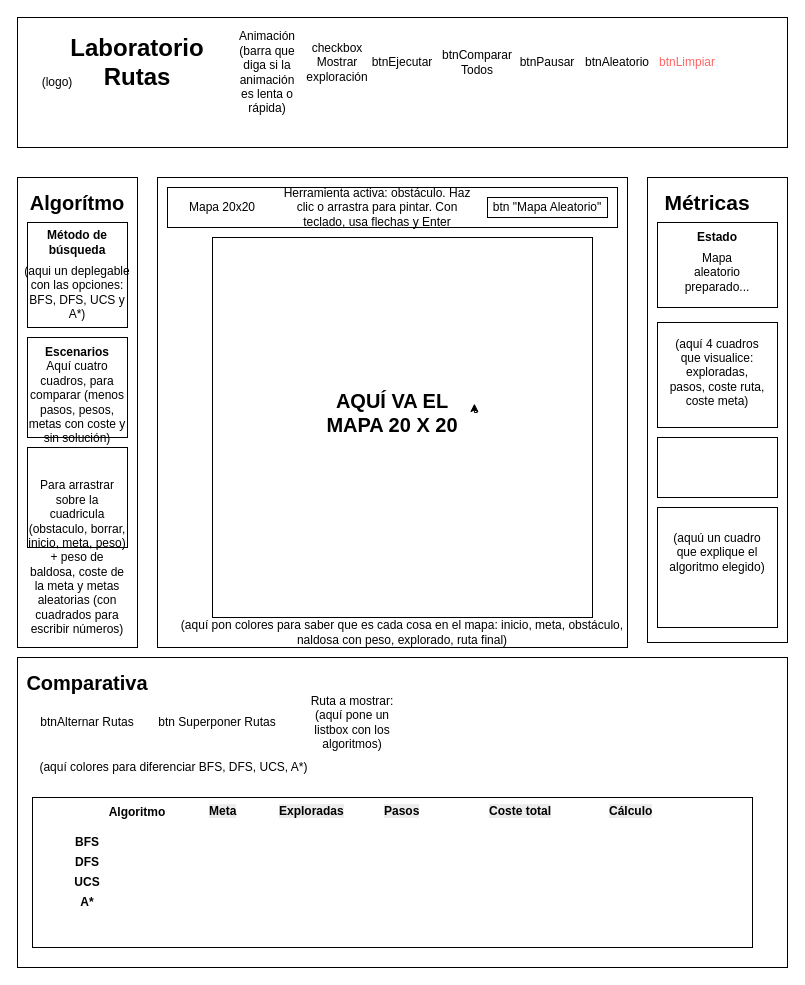
Image size: 805x985. Some labels were removed from this diagram. Here are the shapes that lost their labels. From the top down, the centre of each, then its label:
At [717,467]: "(aquí otro cuadro que visualice el coste total)".
At [77,497]: "Dibujo".
